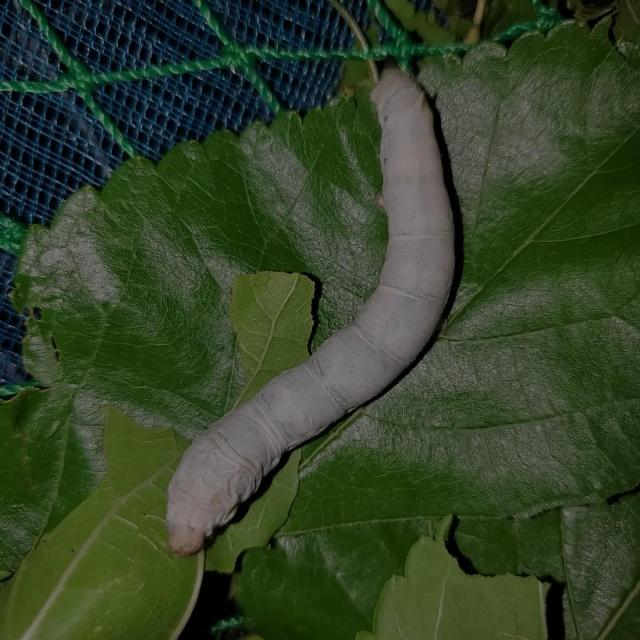Healthy: (153, 40, 492, 577)
